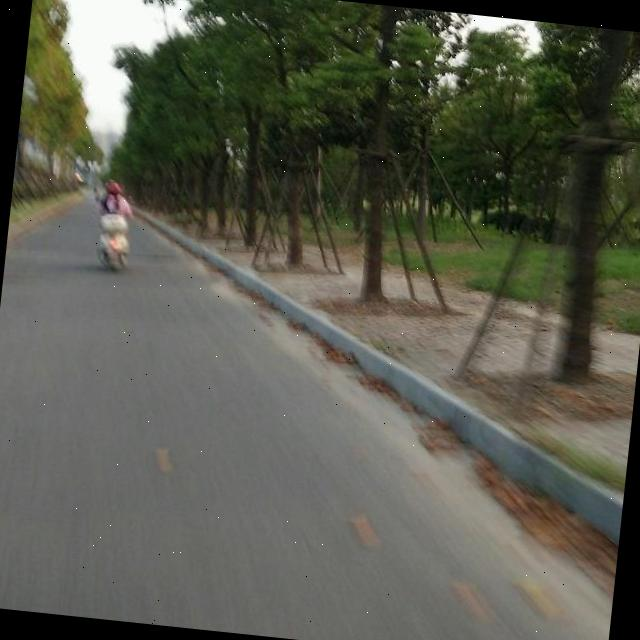curb: (146, 215, 622, 544)
